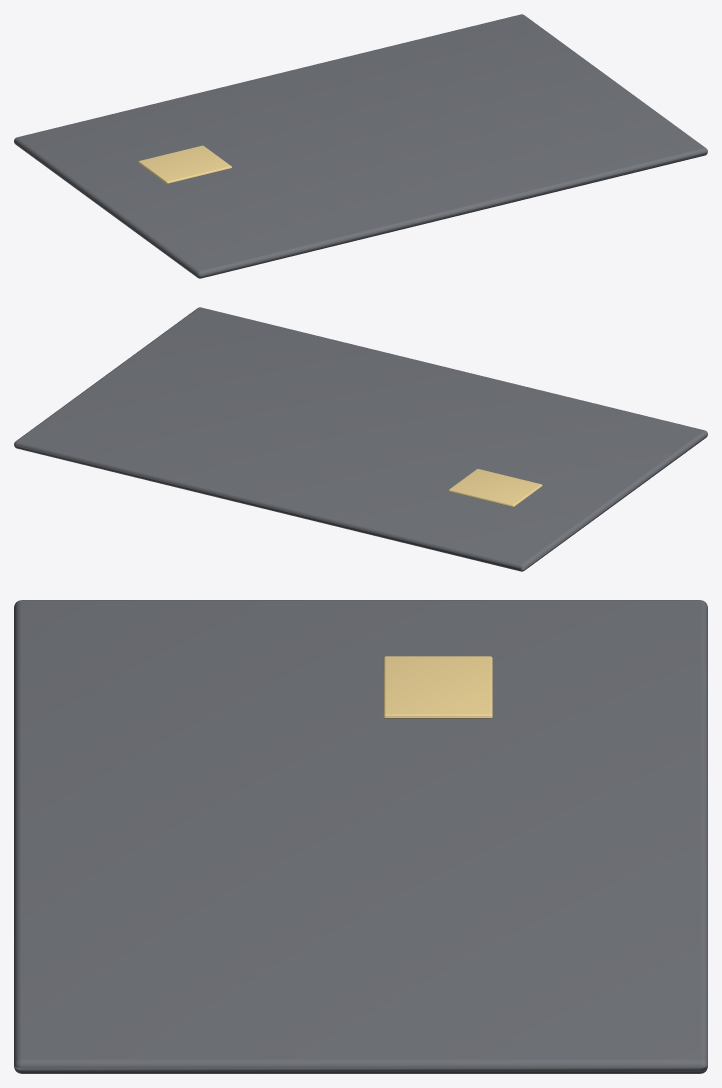
File: card.glb
The picture shows the model from 3 angles, top to bottom: view 1: azimuth 30°, elevation 25°; view 2: azimuth 150°, elevation 25°; view 3: azimuth 270°, elevation 25°; orthographic projection. The views are drawn at different scales.
Parts seen in each view (by area): view 1: card, chip; view 2: card, chip; view 3: card, chip.
Boxes of the visible parts, x1,y1,x2,y2 form: card: (14, 14, 707, 278); chip: (138, 145, 231, 183); card: (14, 307, 707, 571); chip: (448, 469, 542, 507); card: (14, 600, 707, 1073); chip: (383, 656, 492, 718).
Size of the model in its own units: 0.856 by 0.015 by 0.54.
